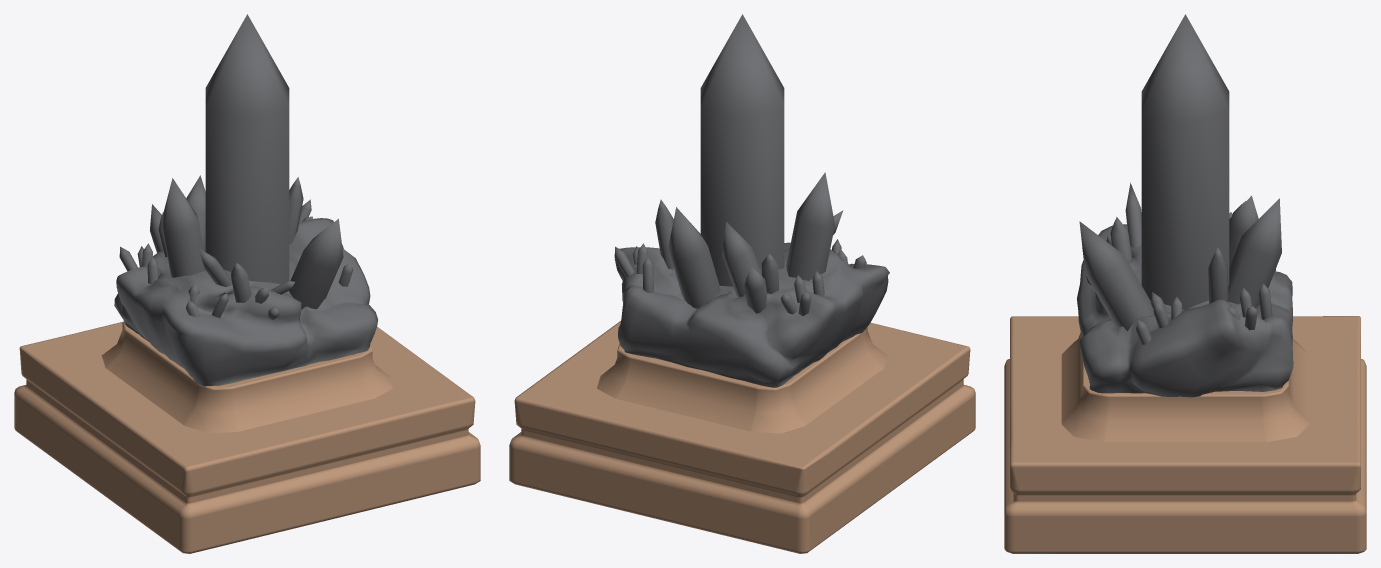
Rendered from Crystal_Energy_Litle.fbx.
3 renders of one model, left to right at view 1: azimuth 30°, elevation 25°; view 2: azimuth 150°, elevation 25°; view 3: azimuth 270°, elevation 25°, orthographic. The views are drawn at different scales.
Visible parts, largest first — view 1: Crystal_Energy_Litle, Crystal_Energy; view 2: Crystal_Energy_Litle, Crystal_Energy; view 3: Crystal_Energy_Litle, Crystal_Energy.
Boxes of the visible parts, bbox=[...] form: Crystal_Energy_Litle: bbox=[14, 321, 480, 553]; Crystal_Energy: bbox=[114, 14, 377, 386]; Crystal_Energy_Litle: bbox=[509, 321, 975, 553]; Crystal_Energy: bbox=[614, 14, 889, 387]; Crystal_Energy_Litle: bbox=[1004, 316, 1366, 553]; Crystal_Energy: bbox=[1077, 14, 1293, 397].
Size of the model in its own units: 0.7 by 0.9913 by 0.7002.
